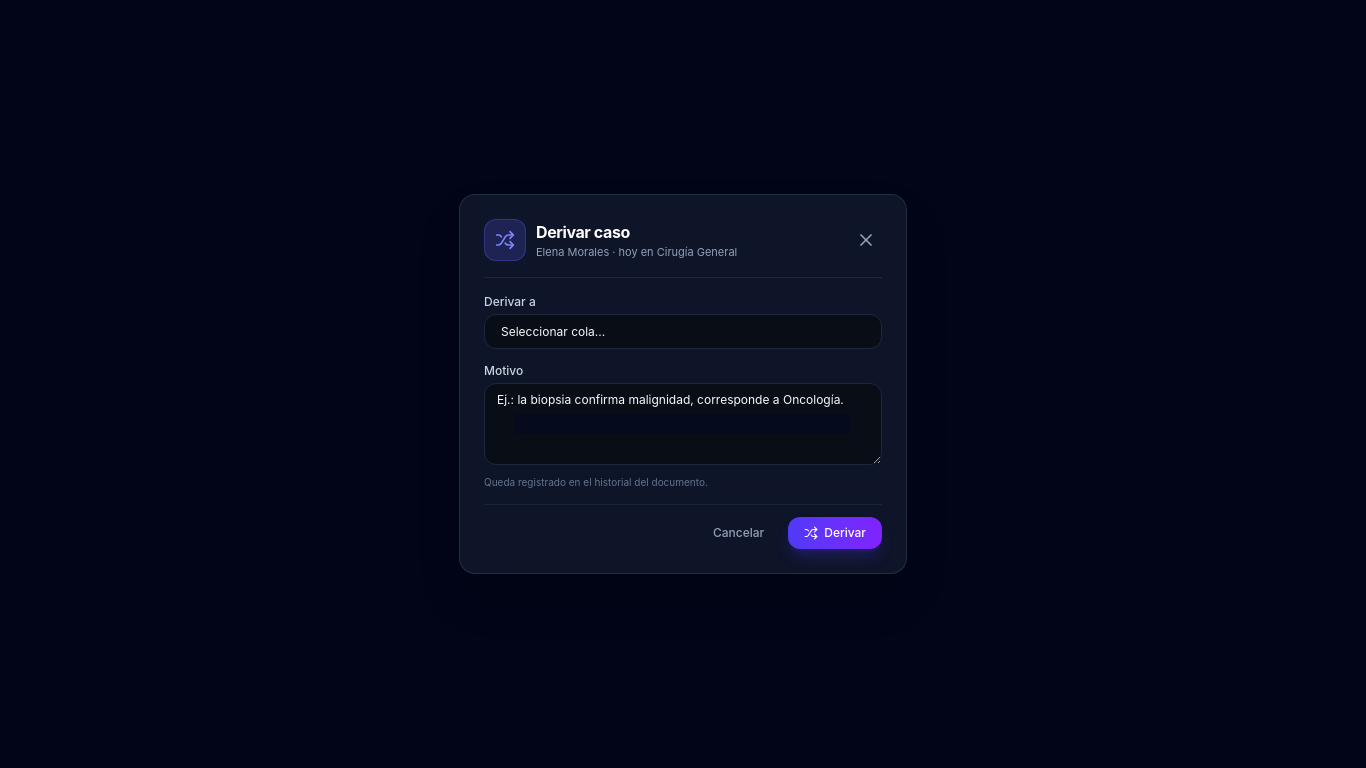
Scenario: DeriveCaseModal clinical derivation workflow › shows informational warning when selecting a non-asistencial queue
Select "Archivo Pasivo (fuera de Triaje)" in the dropdown labelled "Derivar a" at x=683, y=332, box left=484, top=314, right=882, bottom=349
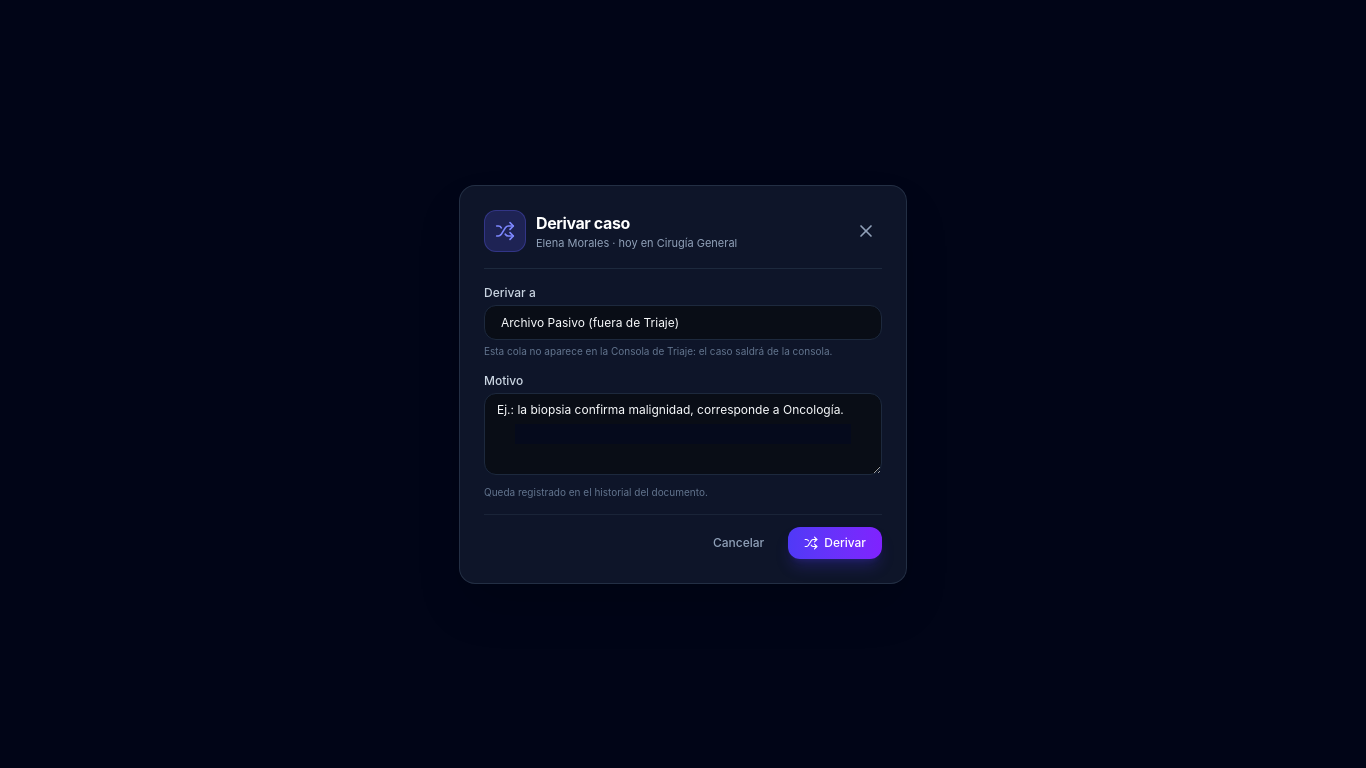
Now the text "Esta cola no aparece en la Consola de Triaje: el caso saldrá de la consola." is shown, box left=484, top=344, right=882, bottom=358
